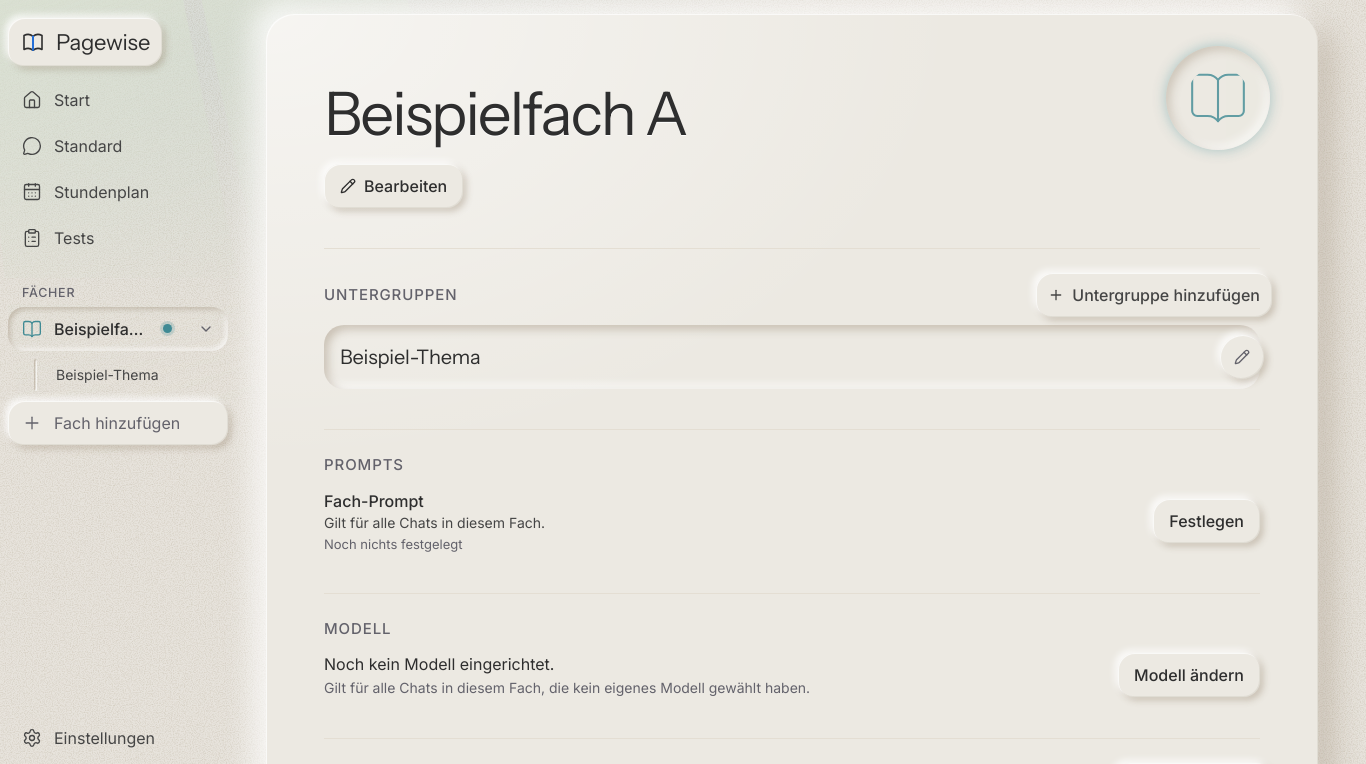
Prompts je Ebene › weist darauf hin, wenn bisher nur die technische Ebene gilt
Click the button with aria-label "Fach-Prompt: Festlegen": (1207, 521) [1153, 499, 1260, 543]
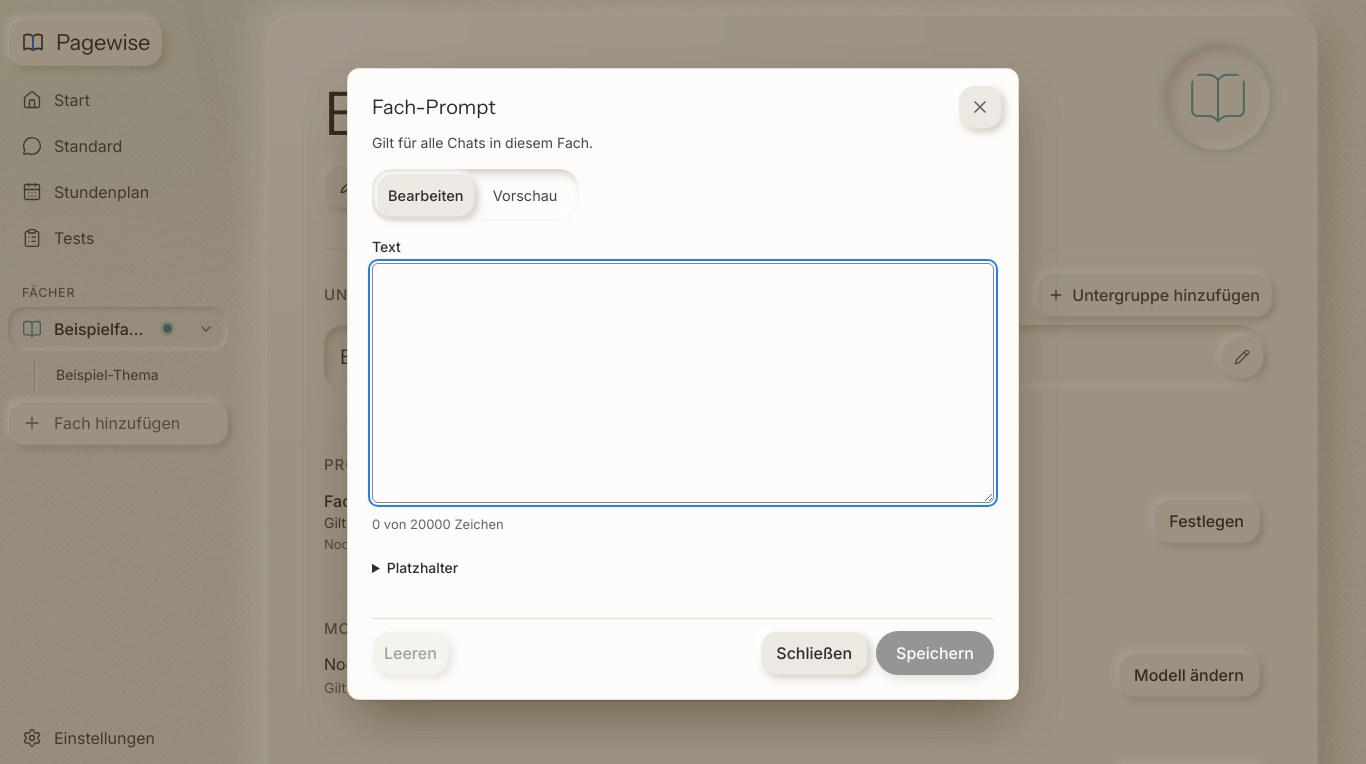
Click the radio button labelled "Vorschau": (525, 195) [493, 186, 558, 204]
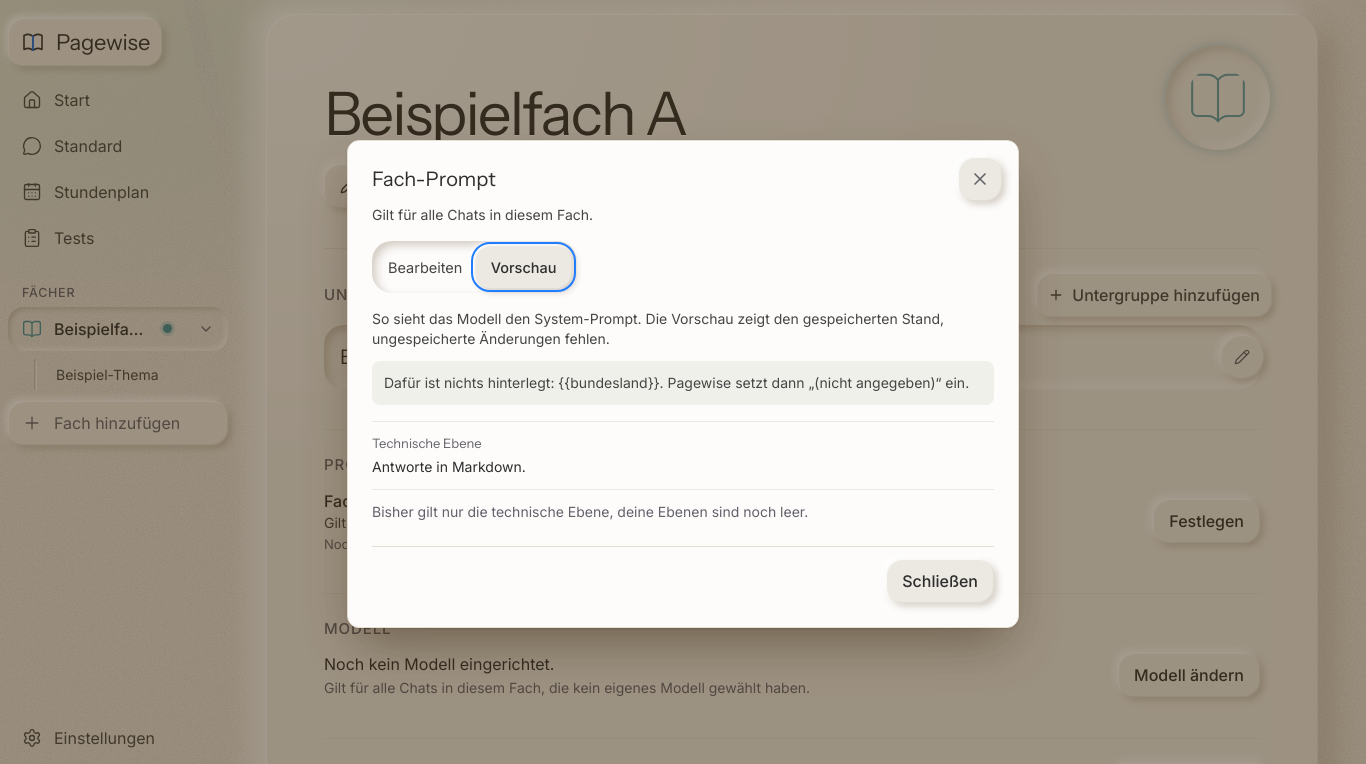
Now the text "Bisher gilt nur die technische Ebene" is shown, box [372, 503, 808, 520]
